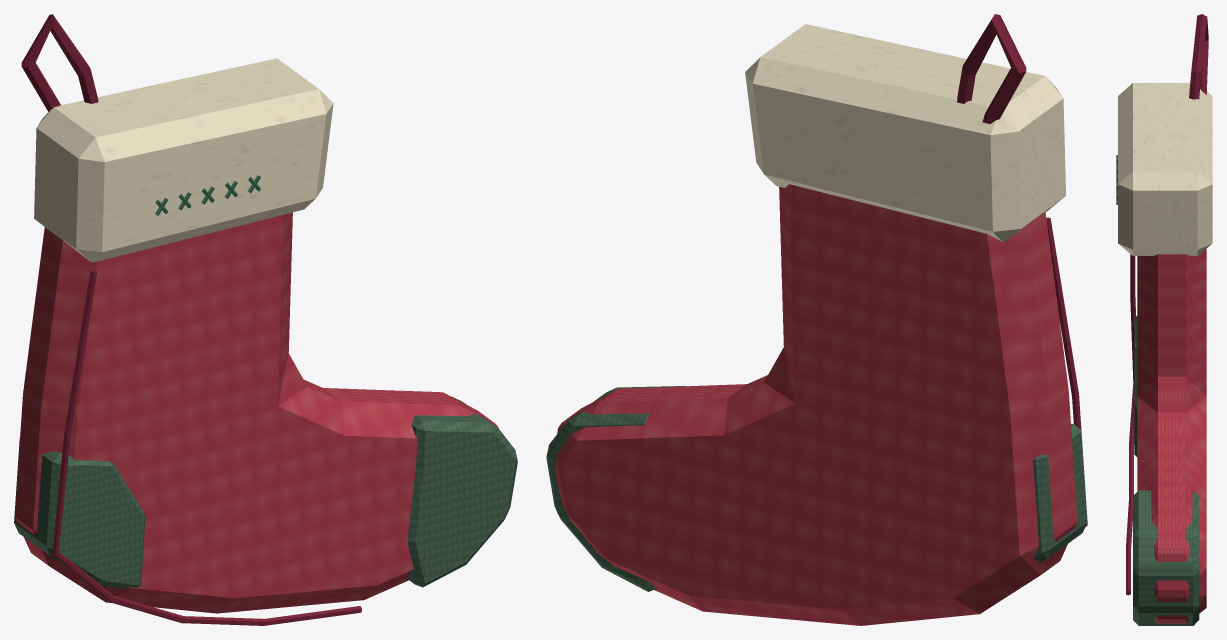
File: stocking_wall.glb
The picture shows the model from 3 angles, left to right: view 1: azimuth 30°, elevation 25°; view 2: azimuth 150°, elevation 25°; view 3: azimuth 270°, elevation 25°; orthographic projection. The views are drawn at different scales.
Parts seen in each view (by area): view 1: stocking_wall; view 2: stocking_wall; view 3: stocking_wall.
Boxes of the visible parts, x1,y1,x2,y2 form: stocking_wall: (14,14,517,625); stocking_wall: (546,14,1087,625); stocking_wall: (1116,14,1212,625).
Bounding box in the file's own units: 0.2857 × 0.3658 × 0.0651.
Materials: 5 (3 with a texture image).
